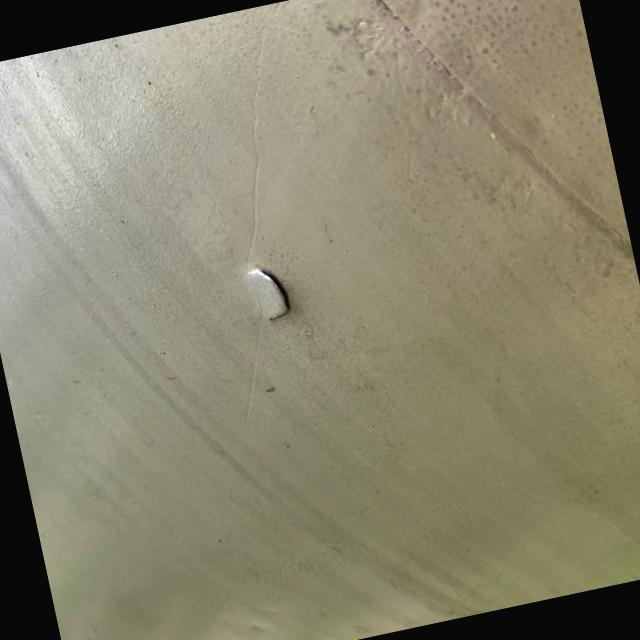crack: (222, 247, 310, 339)
